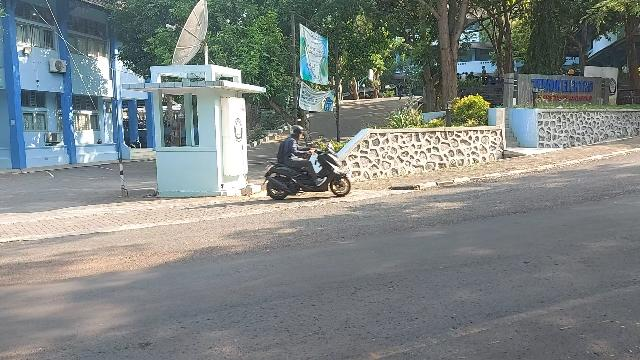helm: (292, 126, 305, 140)
motor: (263, 144, 352, 201)
